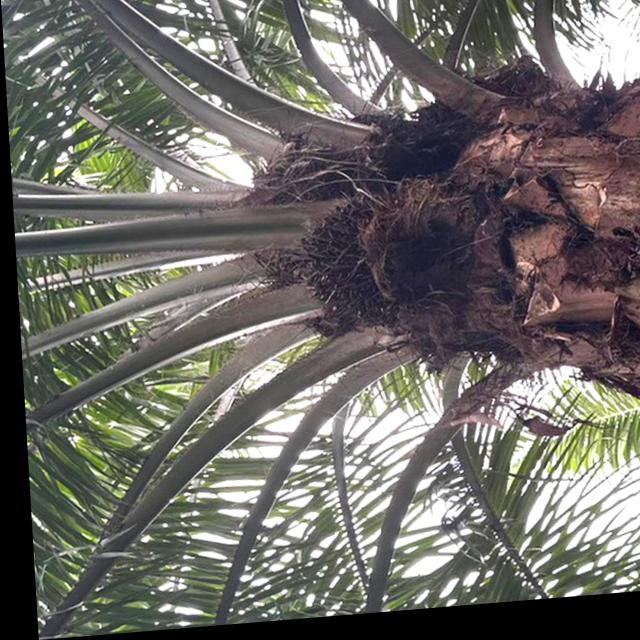almost: (289, 194, 421, 338)
